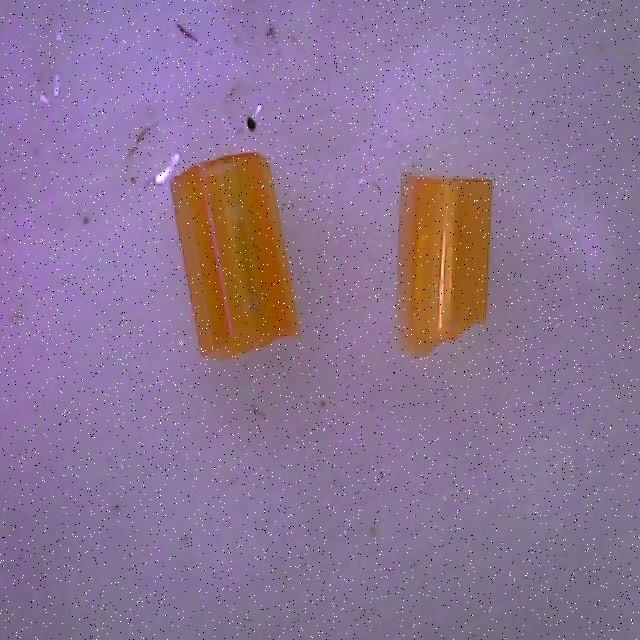fragments: (168, 150, 302, 362), (394, 174, 494, 358)
